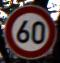Speed Limit -60-: (2, 4, 56, 58)
